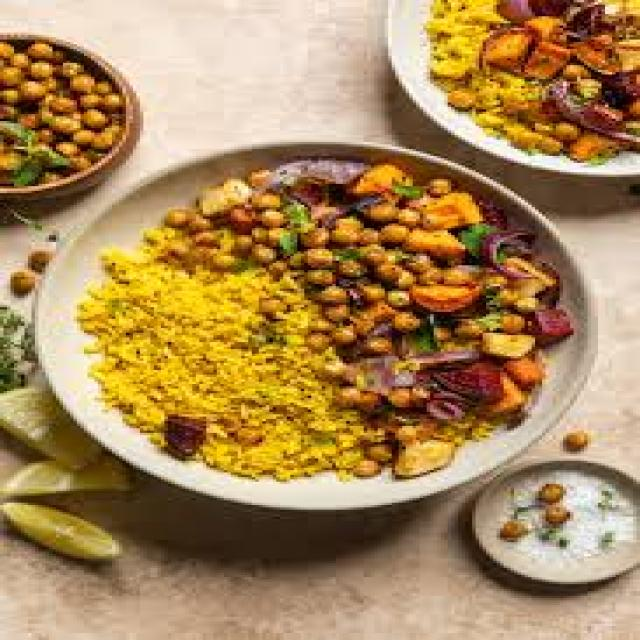RICE: (77, 258, 371, 479)
SUNDAL: (150, 161, 570, 477)
